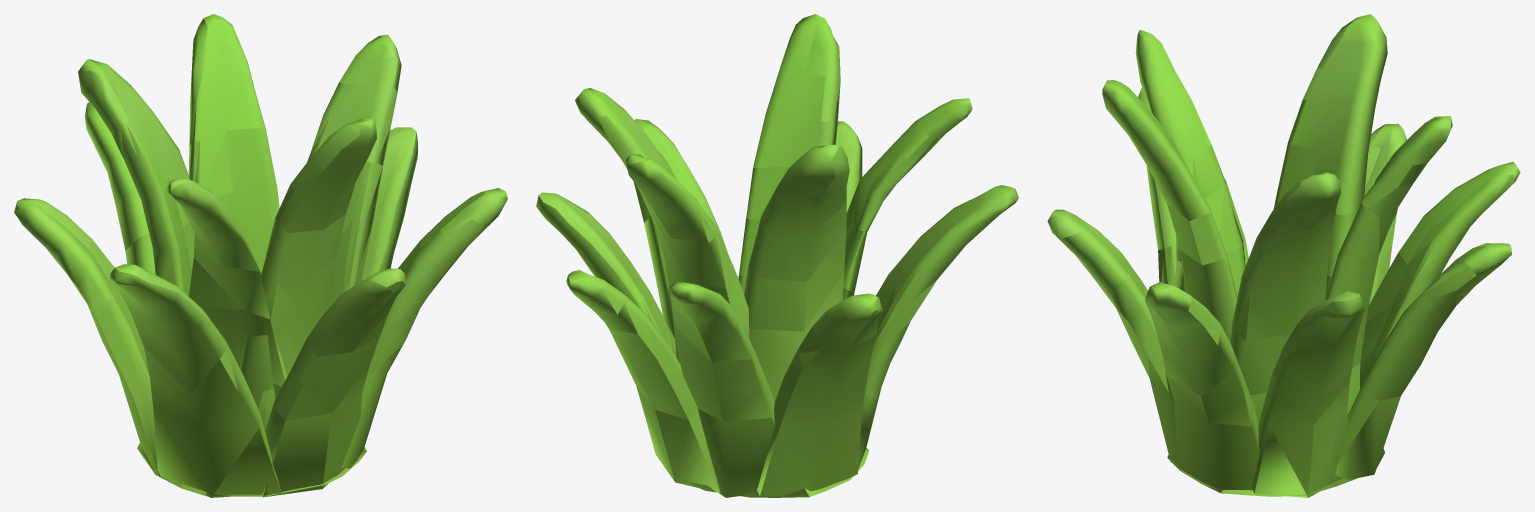
File: grass_tuft.glb
3 renders of one model, left to right at view 1: azimuth 30°, elevation 25°; view 2: azimuth 150°, elevation 25°; view 3: azimuth 270°, elevation 25°, orthographic. The views are drawn at different scales.
Visible parts, largest first — view 1: mesh_node; view 2: mesh_node; view 3: mesh_node.
Part boxes in pixels (box(x1,y1,x2,y2)): mesh_node: box(14, 14, 507, 497); mesh_node: box(536, 14, 1018, 497); mesh_node: box(1047, 14, 1520, 497).
Bounding box in the file's own units: 0.957 × 0.8965 × 0.9941.
1 material, 1 textured.
